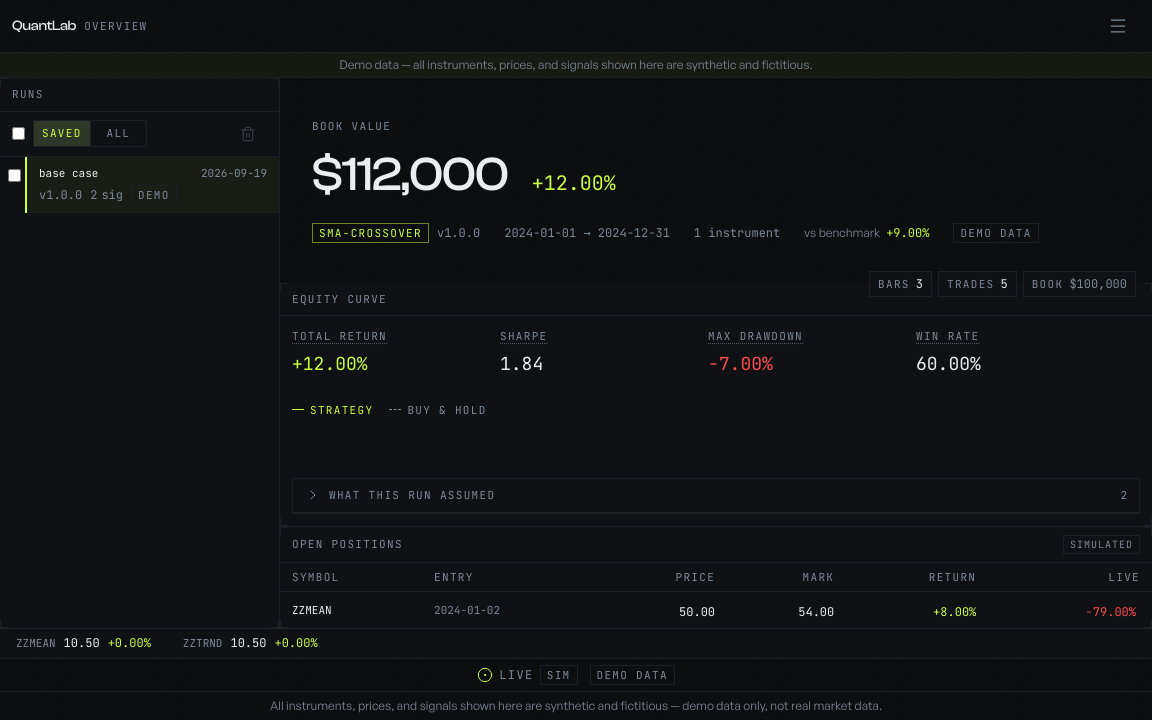
Test: Overview › deletes a run behind a confirm step
Expected: the button named "delete selected runs" is disabled, [229,120,267,148]
Click the checkbox named "select run base case": click(14, 175) [8,168,21,182]
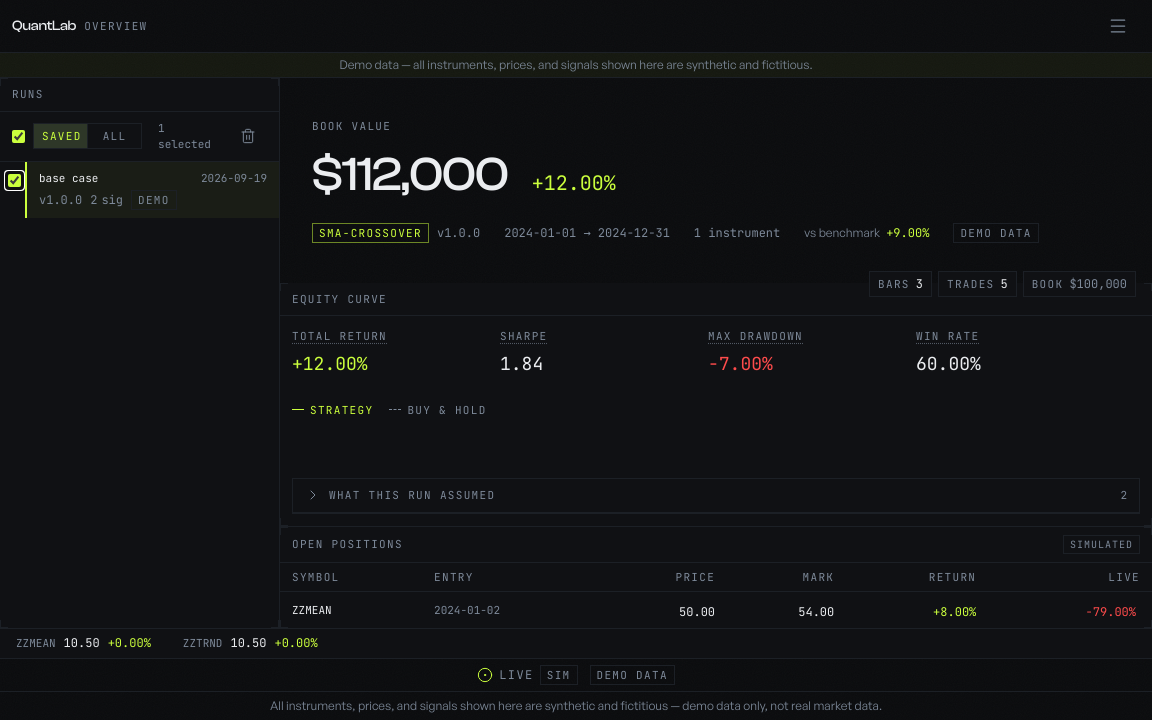
Click the button named "delete selected runs": click(248, 136) [229,122,267,150]
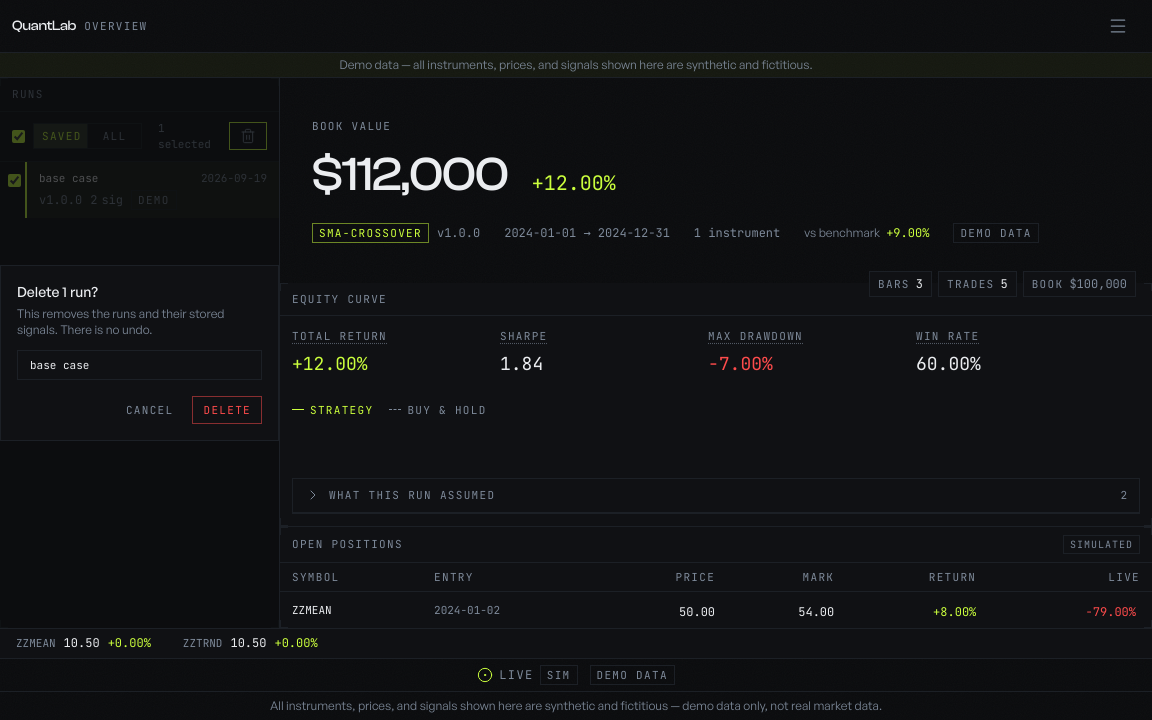
Result: the list item "base case" is shown at [30,358,89,372]
Click the button "Delete": click(227, 410) [192,396,262,424]
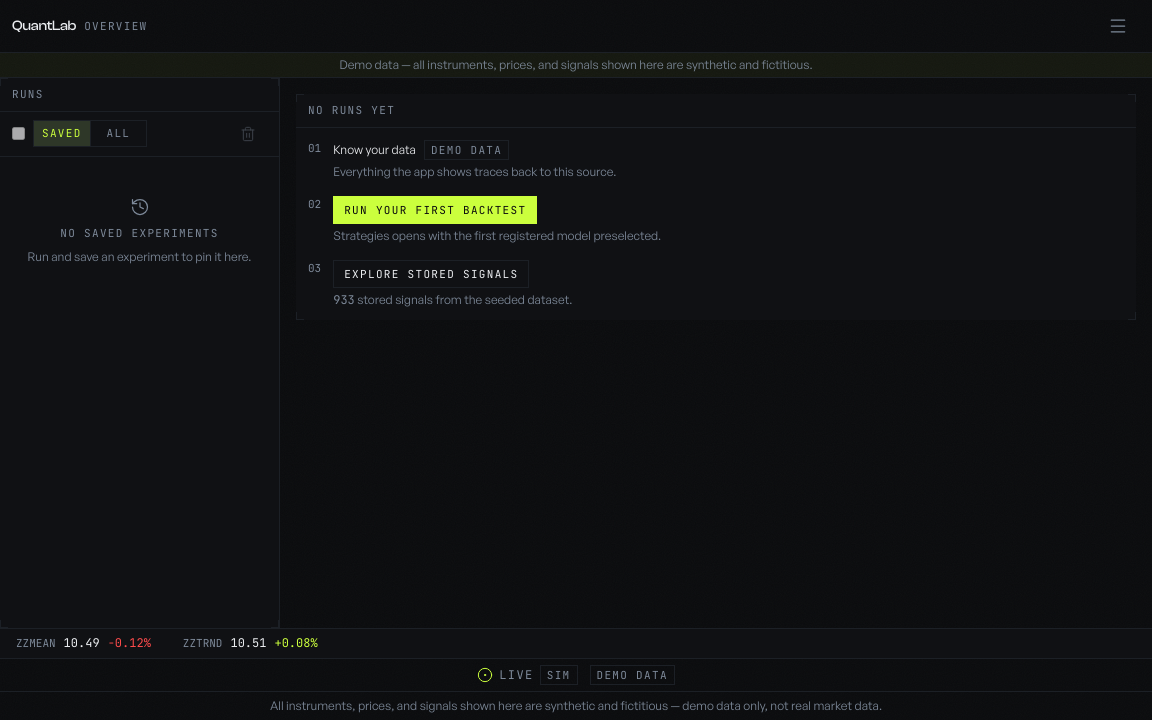
Result: the button "base case" is gone
